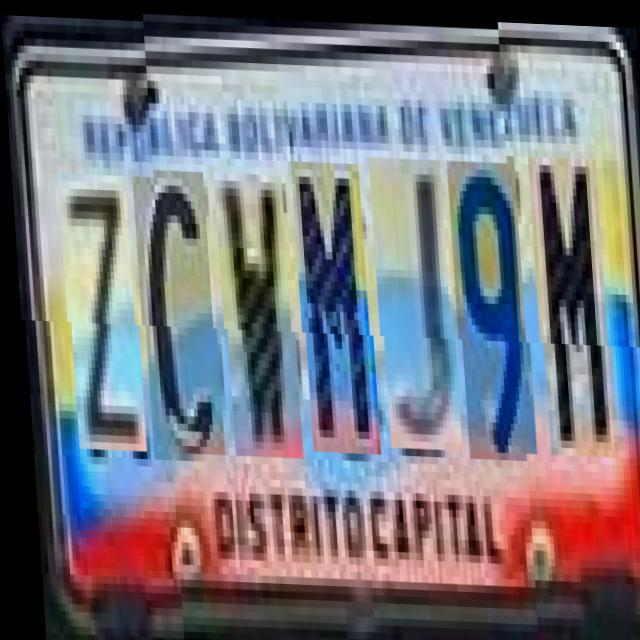9: (448, 156, 531, 456)
C: (133, 168, 219, 453)
J: (370, 154, 456, 446)
M: (530, 160, 613, 460), (292, 159, 375, 451)
W: (215, 171, 297, 456)
Z: (58, 165, 140, 444)
